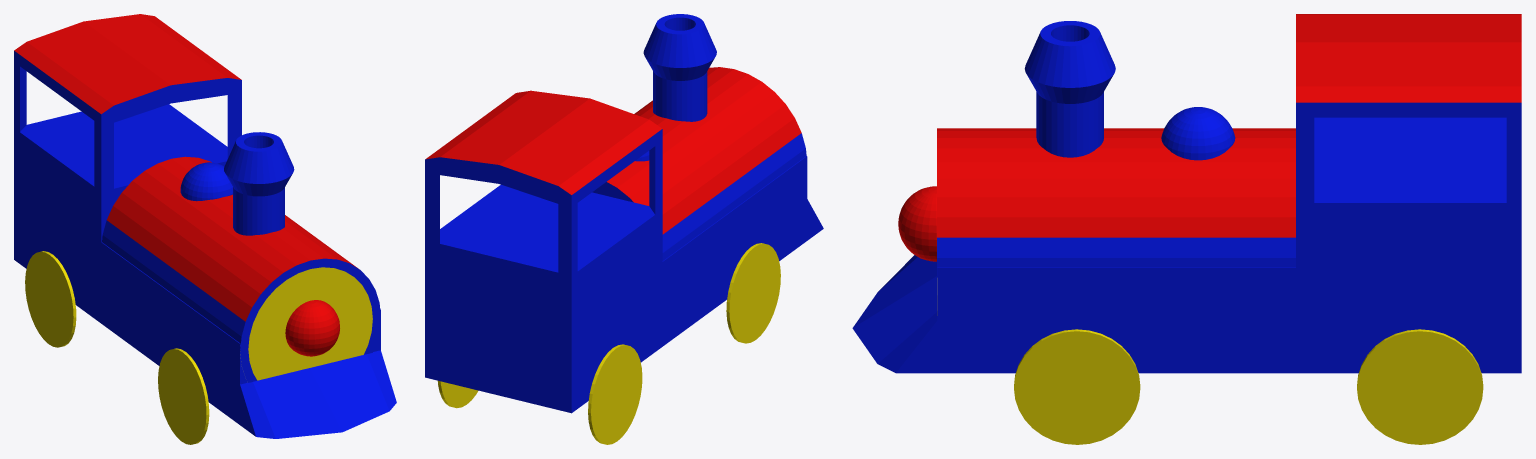
File: trainengine.fbx
3 renders of one model, left to right at view 1: azimuth 30°, elevation 25°; view 2: azimuth 150°, elevation 25°; view 3: azimuth 270°, elevation 25°, orthographic. The views are drawn at different scales.
Visible parts, largest first — view 1: Cylinder; view 2: Cylinder; view 3: Cylinder.
Boxes of the visible parts, bbox=[...] form: Cylinder: bbox=[14, 14, 396, 444]; Cylinder: bbox=[425, 14, 823, 444]; Cylinder: bbox=[852, 14, 1521, 444].
Size of the model in its own units: 211 by 384 by 637.
